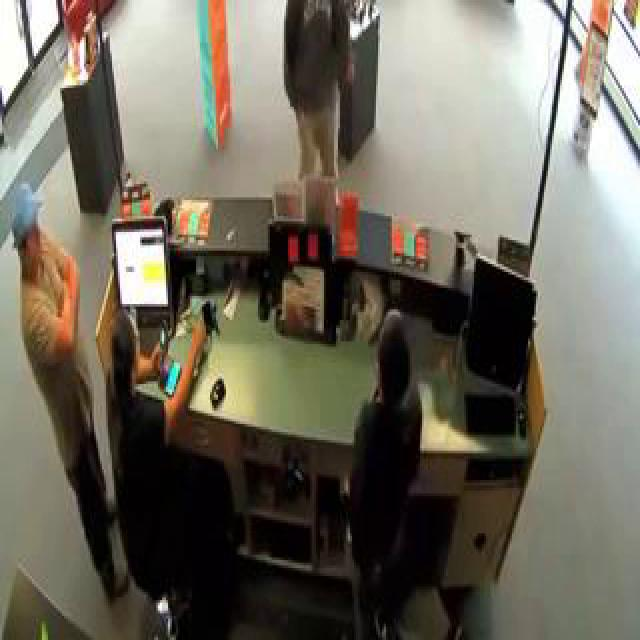robbery: (7, 109, 254, 596)
